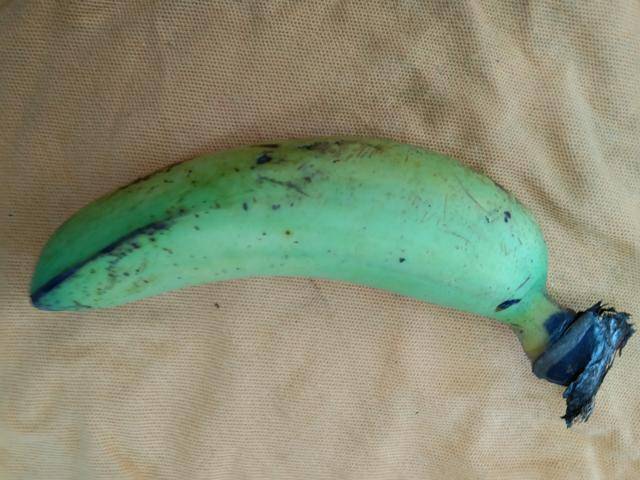ripe: (13, 116, 561, 357)
